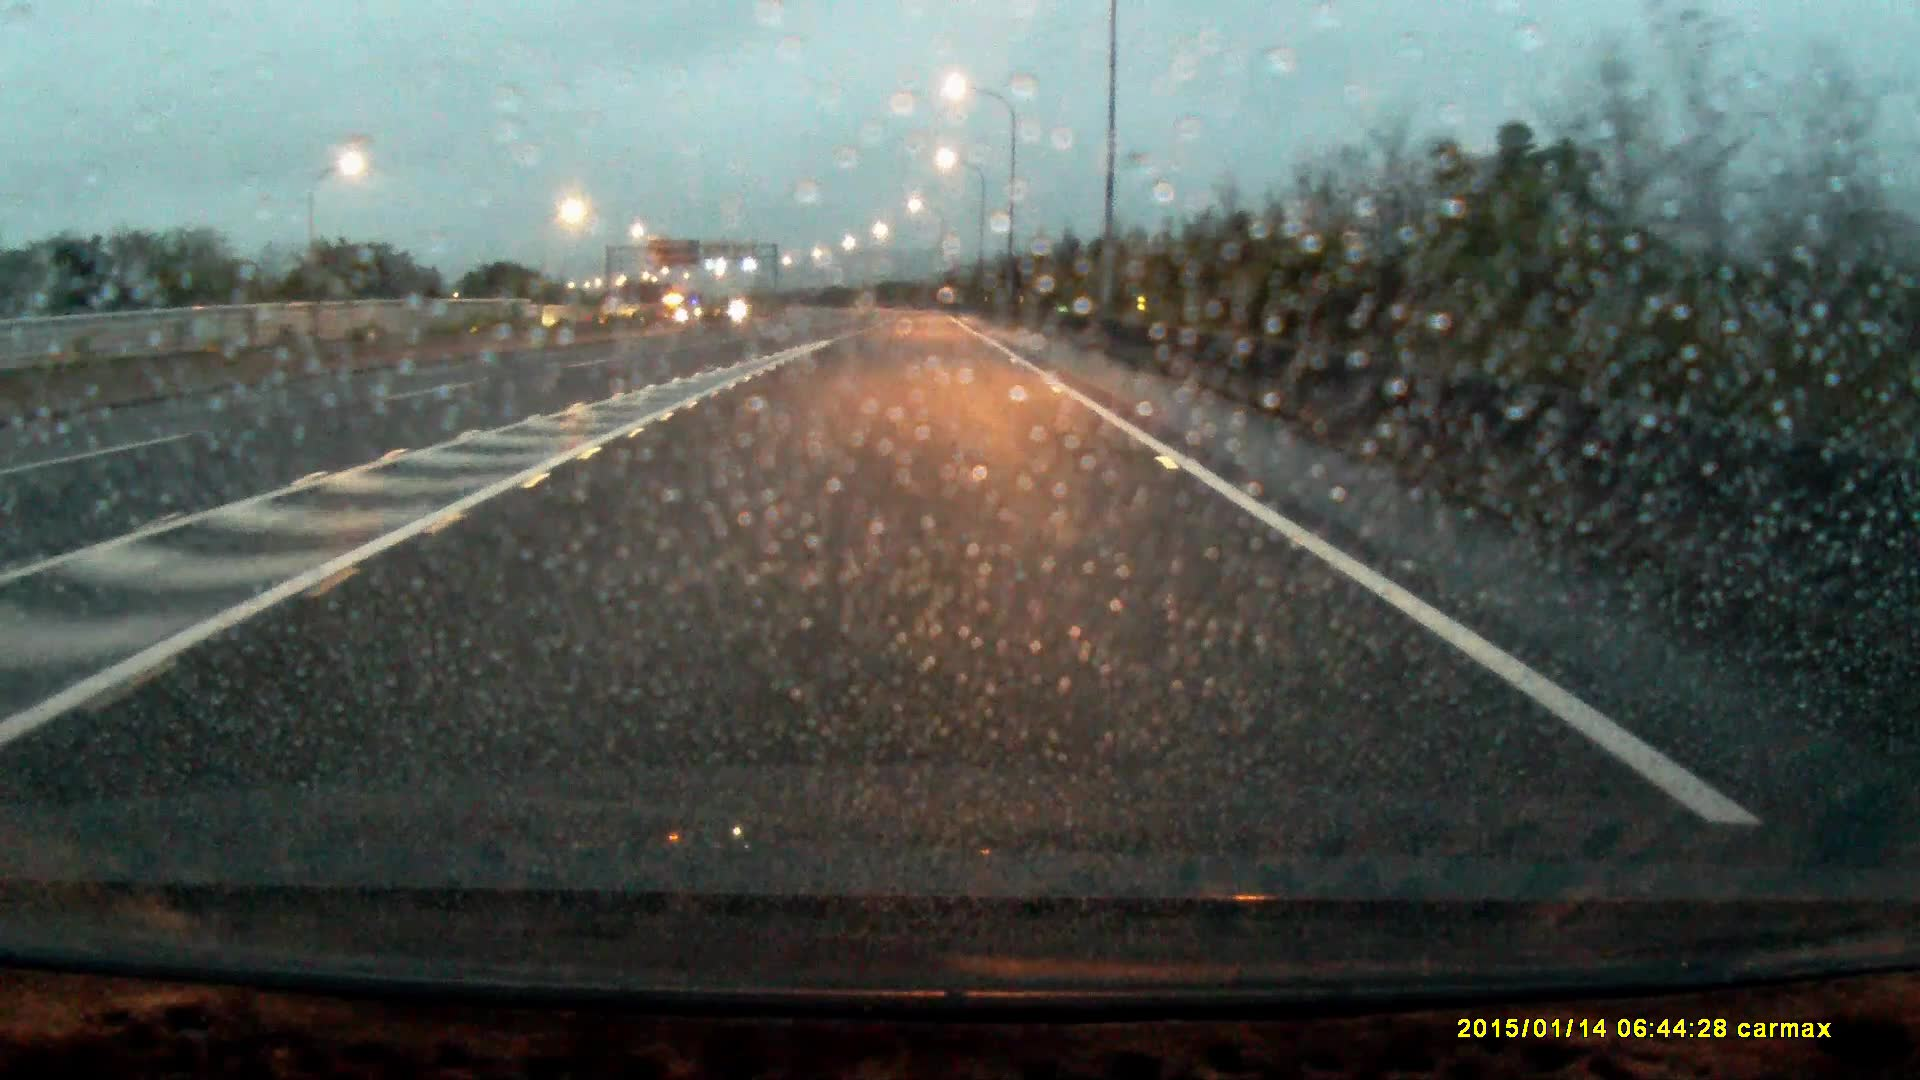vehicle: (662, 298, 694, 326)
